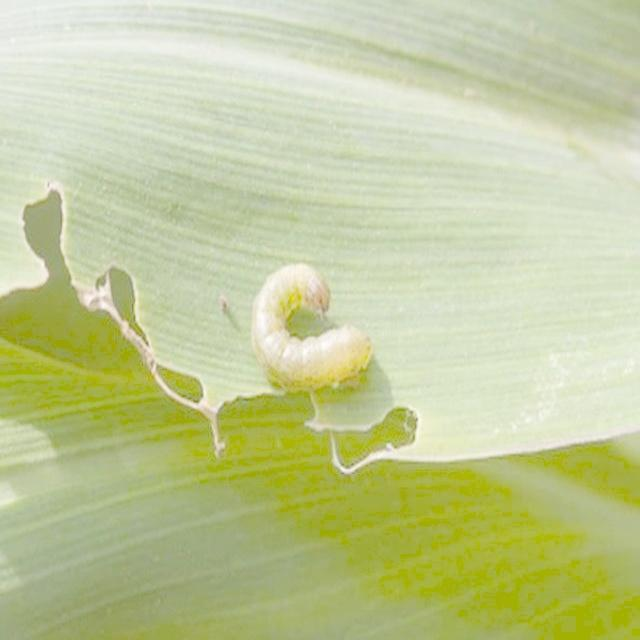gusano_cogollero: (252, 264, 372, 391)
